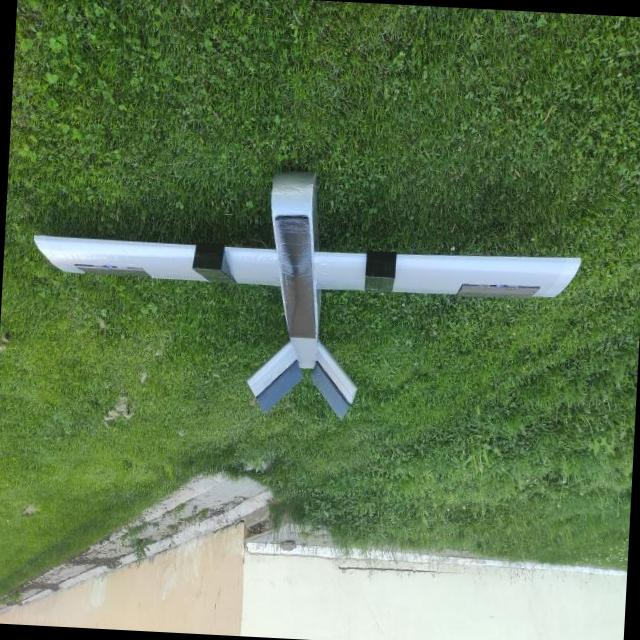UAV: (11, 156, 598, 451)
